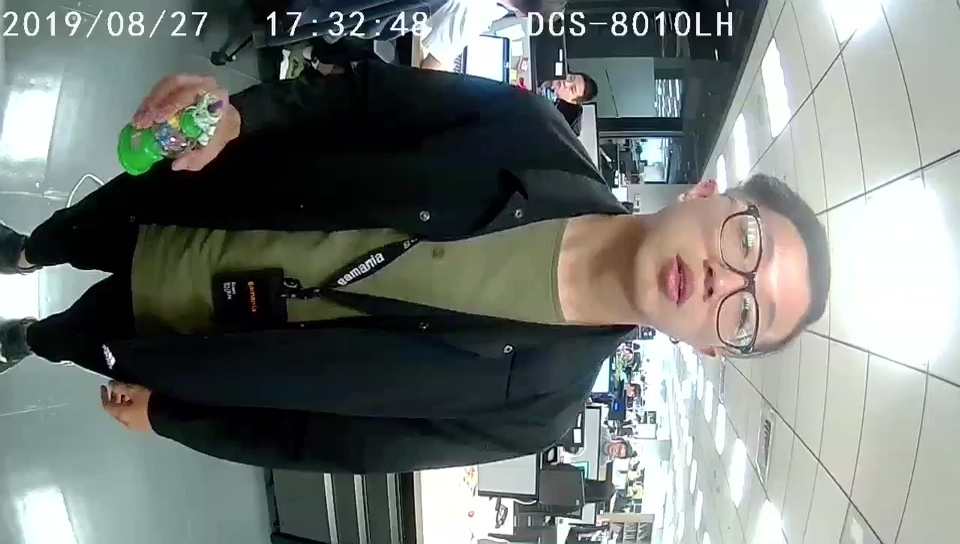buzz: (115, 90, 225, 177)
